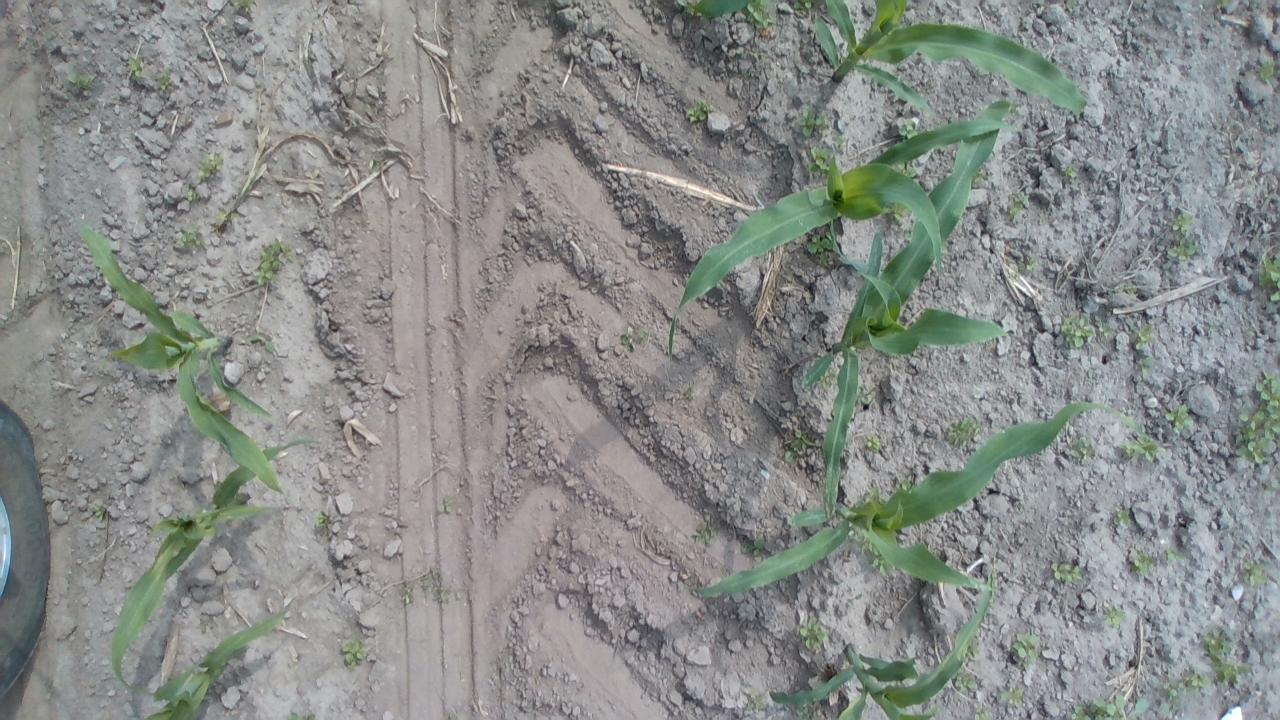Maize: (676, 393, 1134, 600), (798, 96, 1014, 523), (664, 120, 1022, 360), (51, 198, 292, 496), (102, 430, 322, 694), (803, 1, 1093, 128), (761, 570, 999, 720), (134, 603, 294, 720)
Weeds: (395, 564, 466, 608), (1205, 628, 1247, 686), (253, 236, 295, 290), (1072, 691, 1146, 720), (1232, 409, 1266, 467), (1255, 366, 1280, 437), (1061, 311, 1103, 351), (1162, 670, 1210, 700), (1009, 630, 1043, 672), (1132, 323, 1156, 378), (688, 516, 724, 550), (784, 428, 816, 466), (1119, 434, 1159, 464), (804, 142, 838, 177), (1257, 253, 1280, 304), (796, 104, 830, 138), (193, 148, 224, 184), (796, 618, 830, 650), (336, 636, 369, 668), (804, 231, 836, 264), (946, 417, 980, 448), (310, 508, 344, 538), (1050, 556, 1084, 586), (66, 68, 104, 94), (746, 1, 774, 34), (1110, 505, 1140, 535), (618, 324, 648, 354), (1166, 404, 1196, 432), (1166, 237, 1198, 263), (1100, 603, 1128, 632), (866, 546, 892, 577), (1008, 190, 1031, 224), (683, 96, 713, 122), (740, 534, 771, 558), (1131, 552, 1157, 580), (215, 204, 245, 228), (951, 670, 984, 691), (1255, 57, 1279, 85), (1065, 440, 1099, 459), (175, 227, 201, 251), (1246, 560, 1270, 586), (90, 499, 114, 524), (891, 120, 920, 140), (438, 491, 461, 516), (1168, 214, 1194, 236), (1000, 684, 1026, 706), (1162, 546, 1190, 566), (249, 332, 274, 354), (128, 51, 146, 81), (1060, 162, 1082, 186), (283, 706, 320, 720), (179, 186, 206, 204), (1020, 252, 1040, 276), (861, 436, 886, 454), (794, 0, 820, 15), (969, 707, 996, 719), (156, 70, 173, 88), (368, 154, 384, 173), (230, 0, 258, 10), (854, 389, 872, 404), (964, 648, 980, 664)
